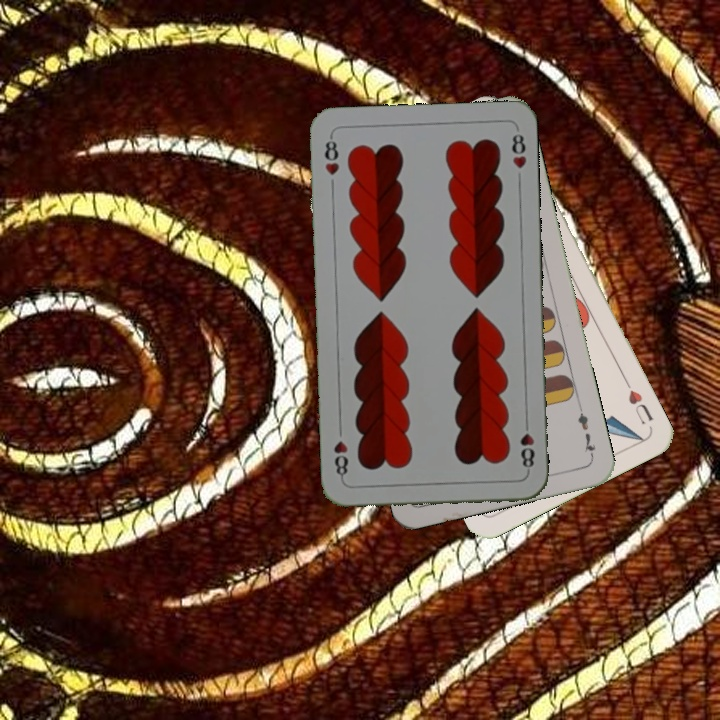E7: (573, 402, 598, 460)
H8: (516, 416, 538, 475), (320, 132, 342, 178)
HU: (620, 376, 656, 427)
